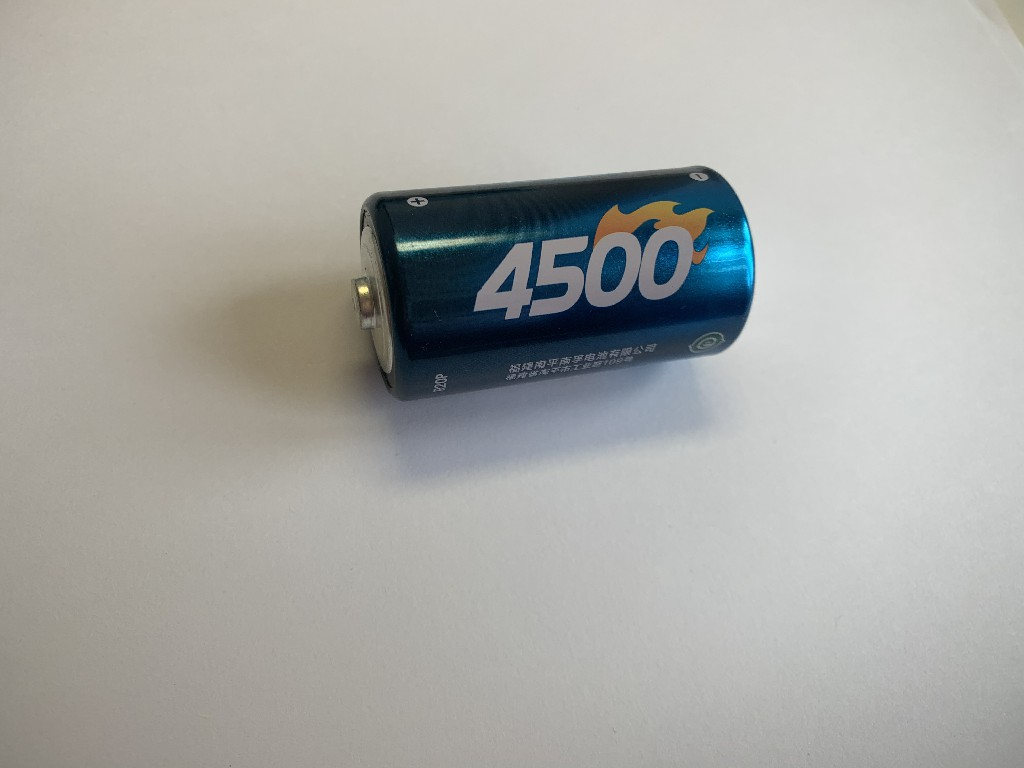charge: (341, 157, 764, 408)
